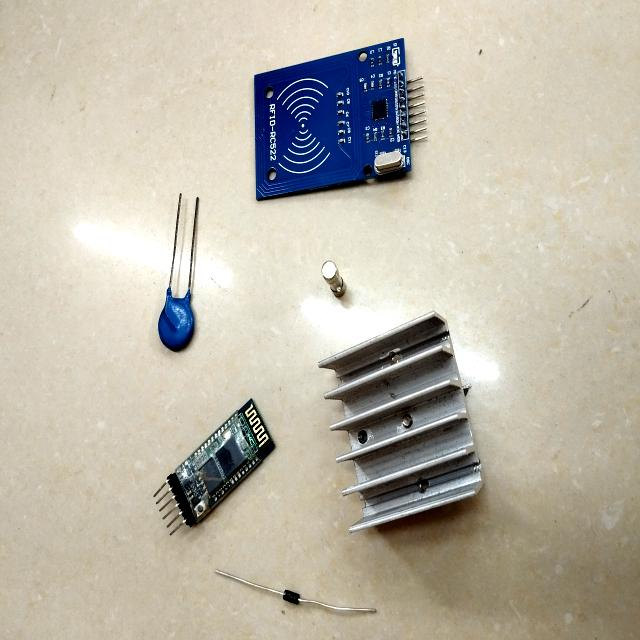capacitor: (158, 298, 195, 352)
